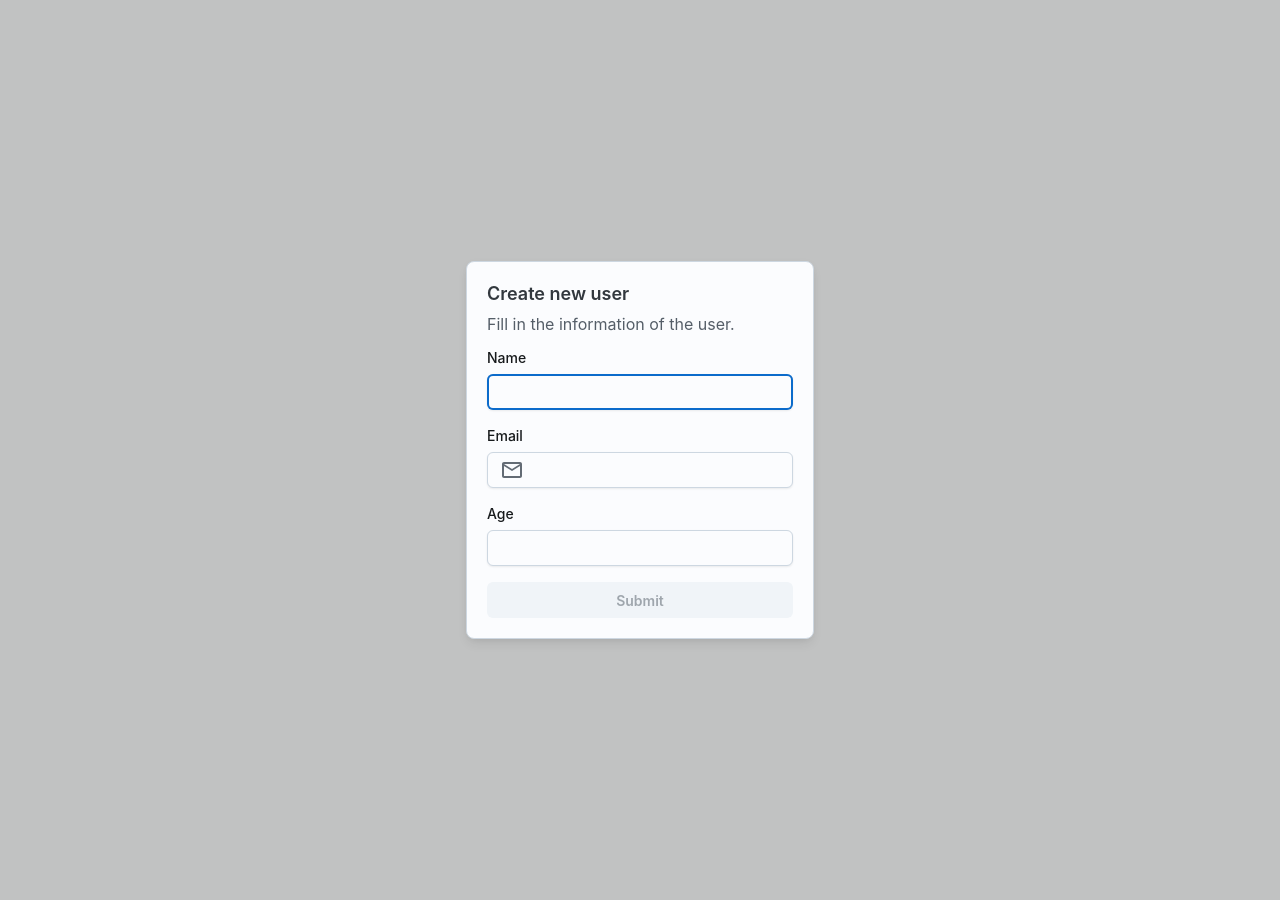
Test: AddUser Component › should handle API error
Type "John Doe" into the field labelled "Name".
click(640, 392); type("John Doe")  # box x1=500 y1=375 x2=780 y2=409
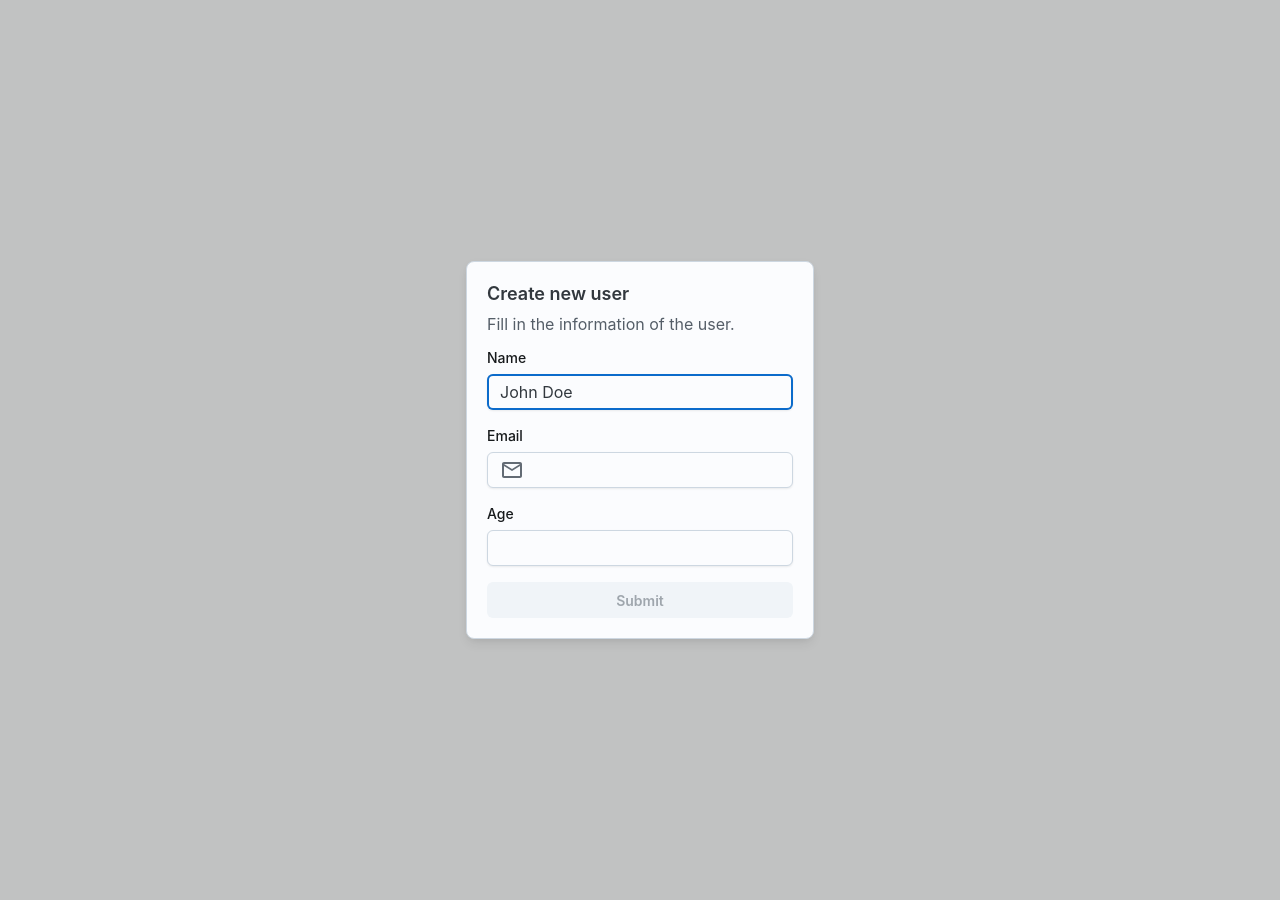
Type "john@example.com" into the field labelled "Email".
click(656, 470); type("john@example.com")  # box x1=532 y1=453 x2=780 y2=487
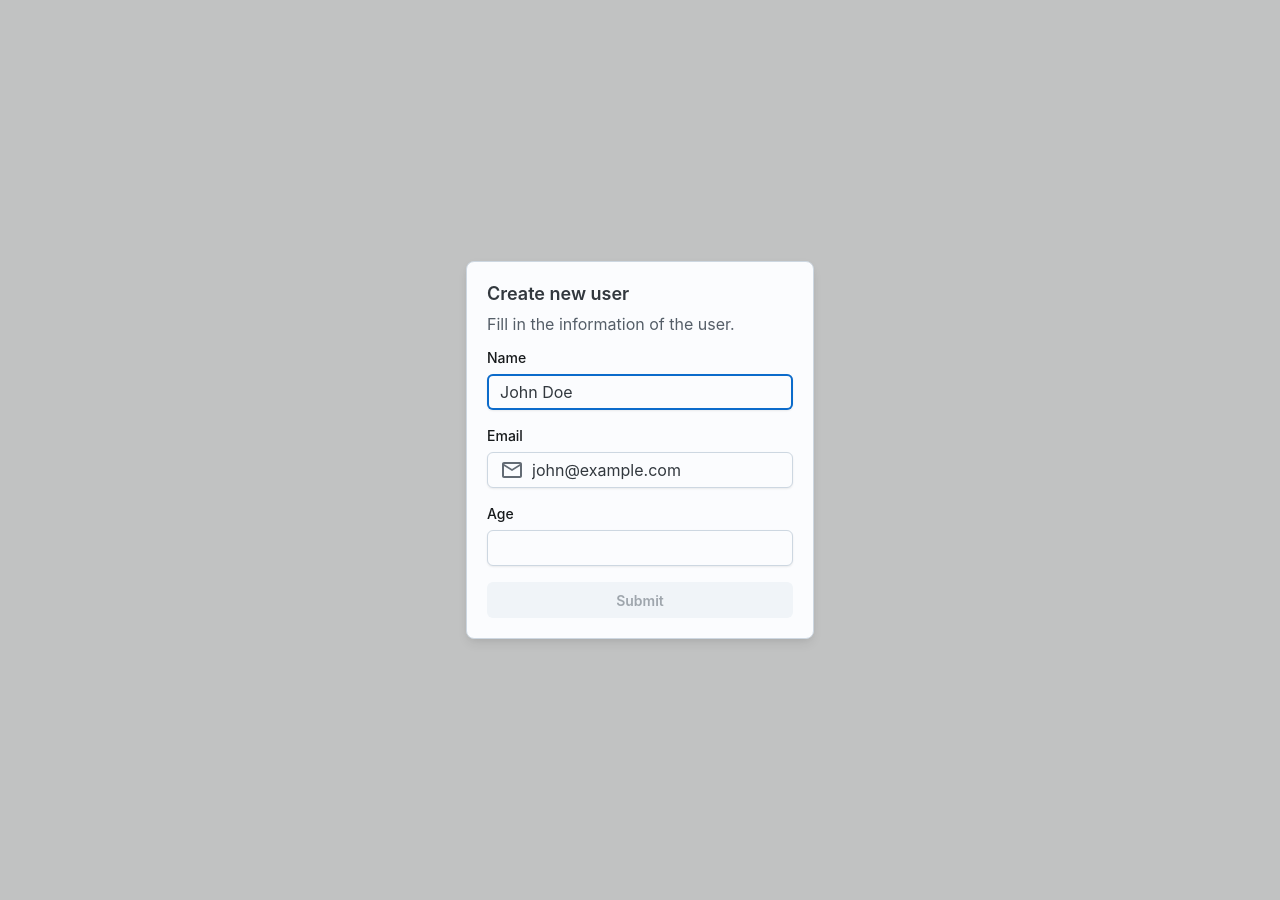
Type "25" into the number field labelled "Age".
click(640, 548); type("25")  # box x1=500 y1=531 x2=780 y2=565
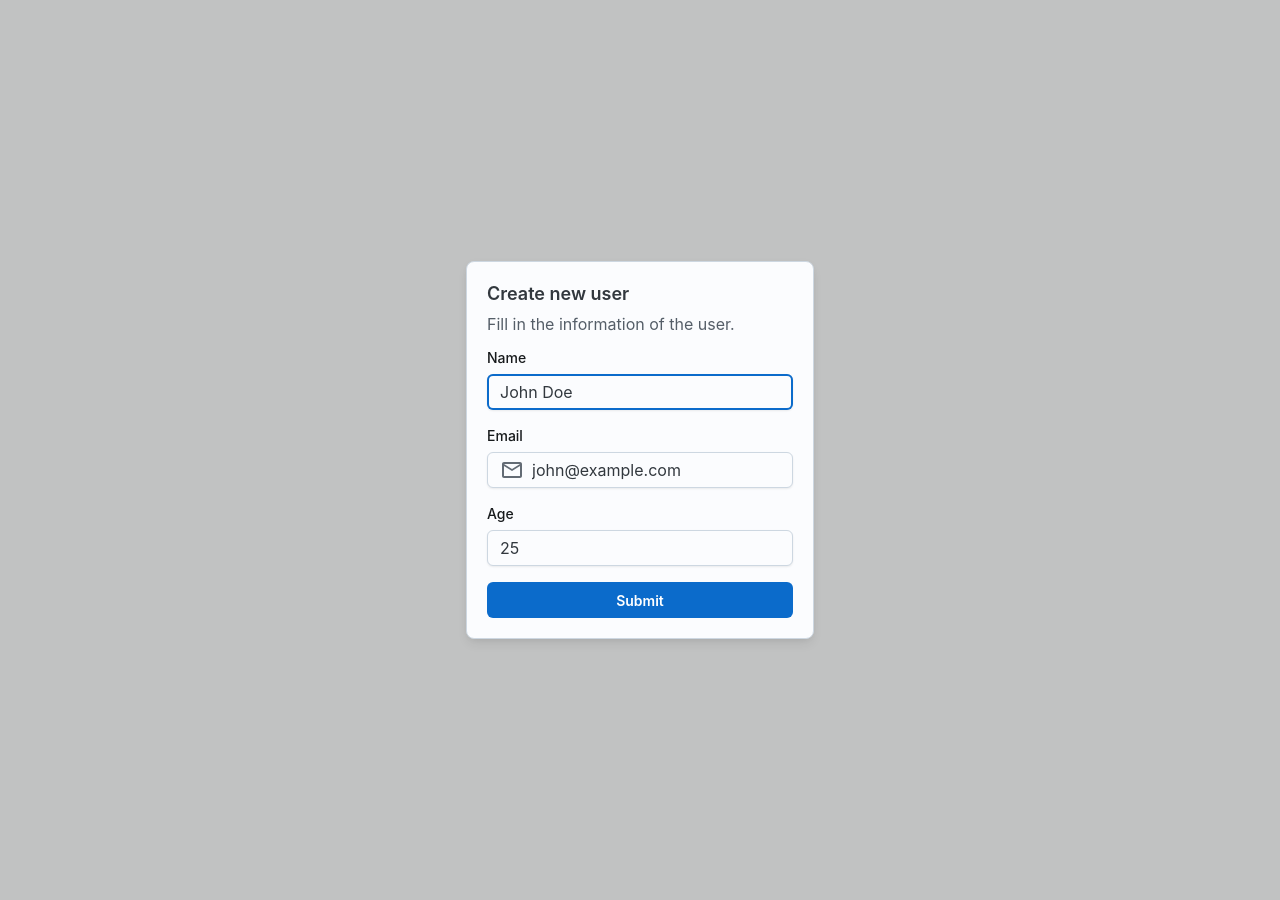
Click the button "Submit".
click(640, 600)  # box x1=487 y1=582 x2=793 y2=618
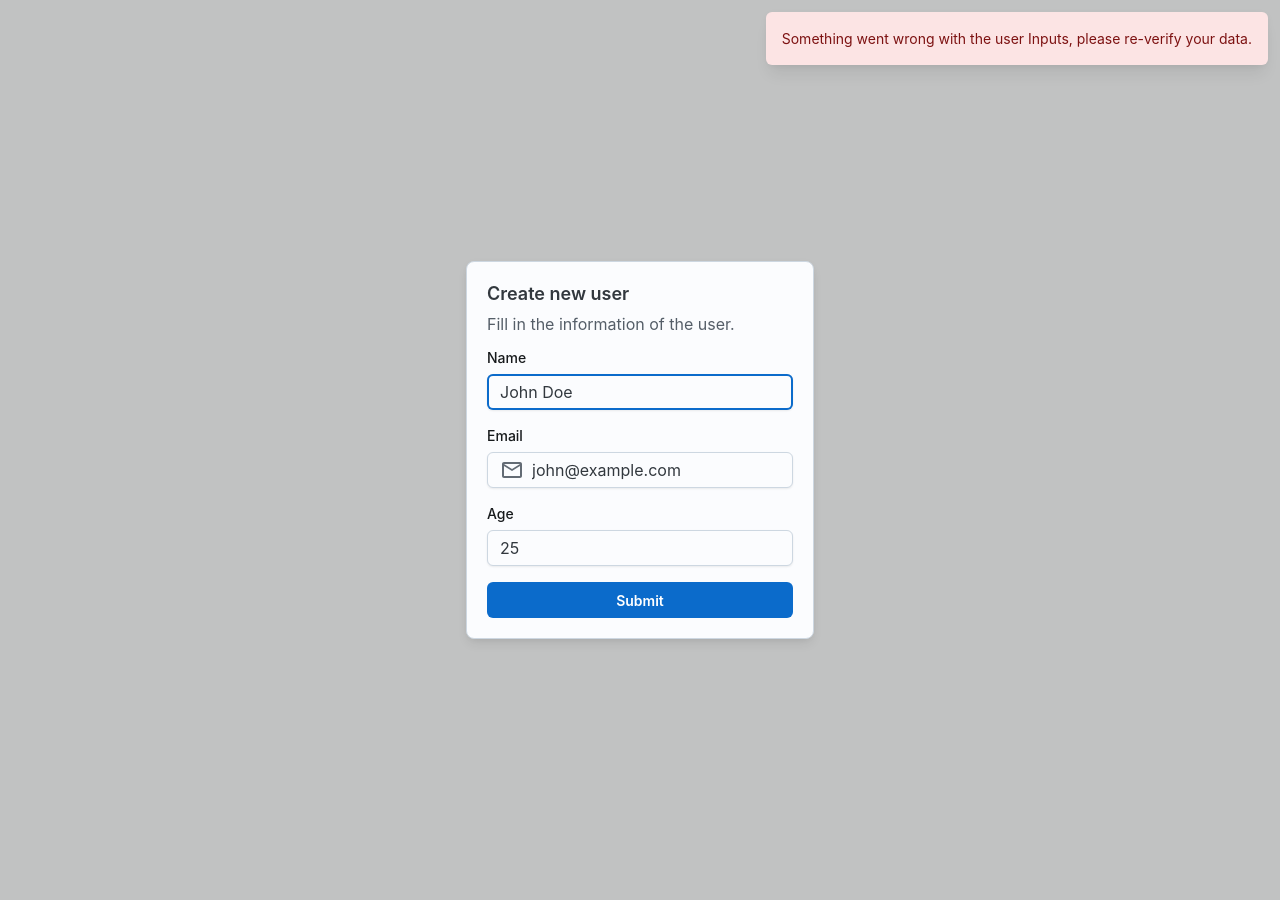
Expected: the text "Something went wrong" is shown, x1=782 y1=30 x2=1252 y2=47
